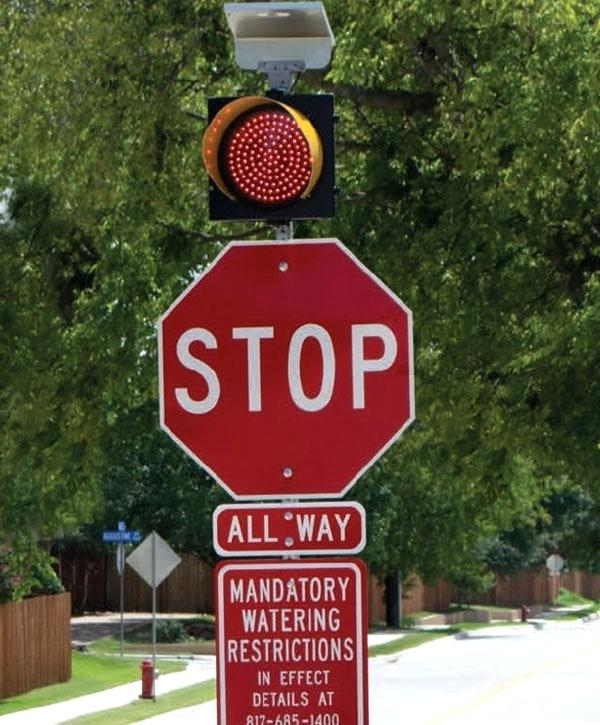stopsign: (156, 235, 417, 499)
